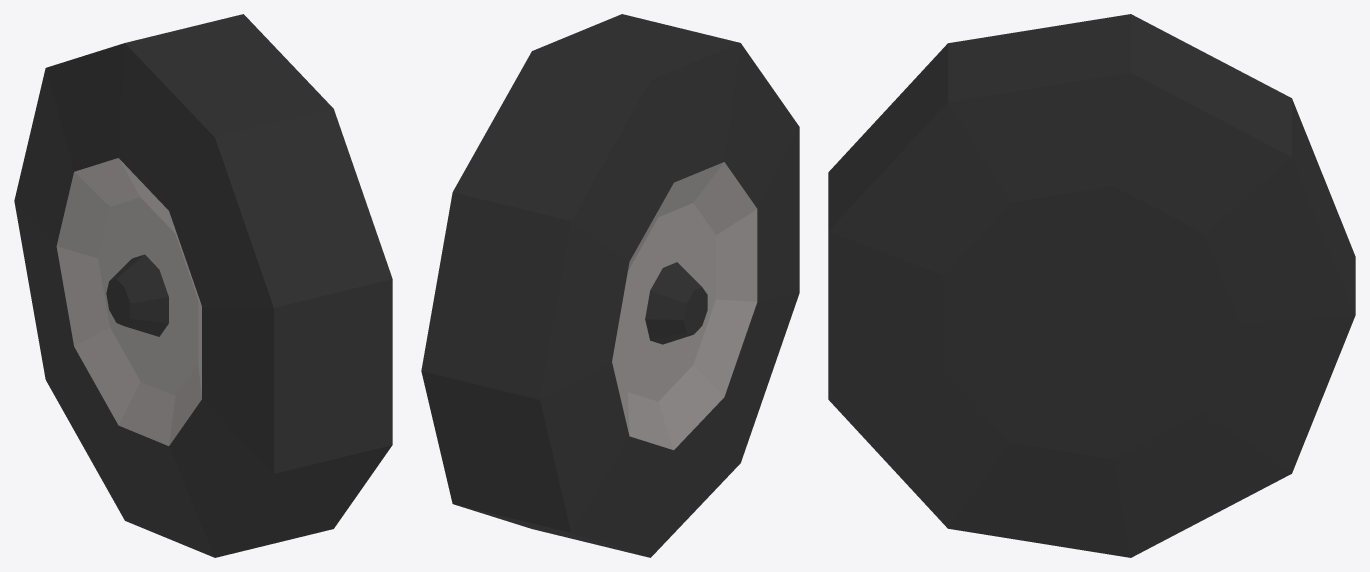
Rendered from car-baywatch-wheel_FR.glb.
3 renders of one model, left to right at view 1: azimuth 30°, elevation 25°; view 2: azimuth 150°, elevation 25°; view 3: azimuth 270°, elevation 25°, orthographic.
Visible parts, largest first — view 1: car-baywatch-wheel_FR; view 2: car-baywatch-wheel_FR; view 3: car-baywatch-wheel_FR.
Part boxes in pixels (bbox=[...]): car-baywatch-wheel_FR: bbox=[14, 14, 392, 557]; car-baywatch-wheel_FR: bbox=[421, 14, 799, 557]; car-baywatch-wheel_FR: bbox=[828, 14, 1355, 557].
Bounding box in the file's own units: 0.2919 × 0.8359 × 0.8232.
Materials: 1 (1 with a texture image).
